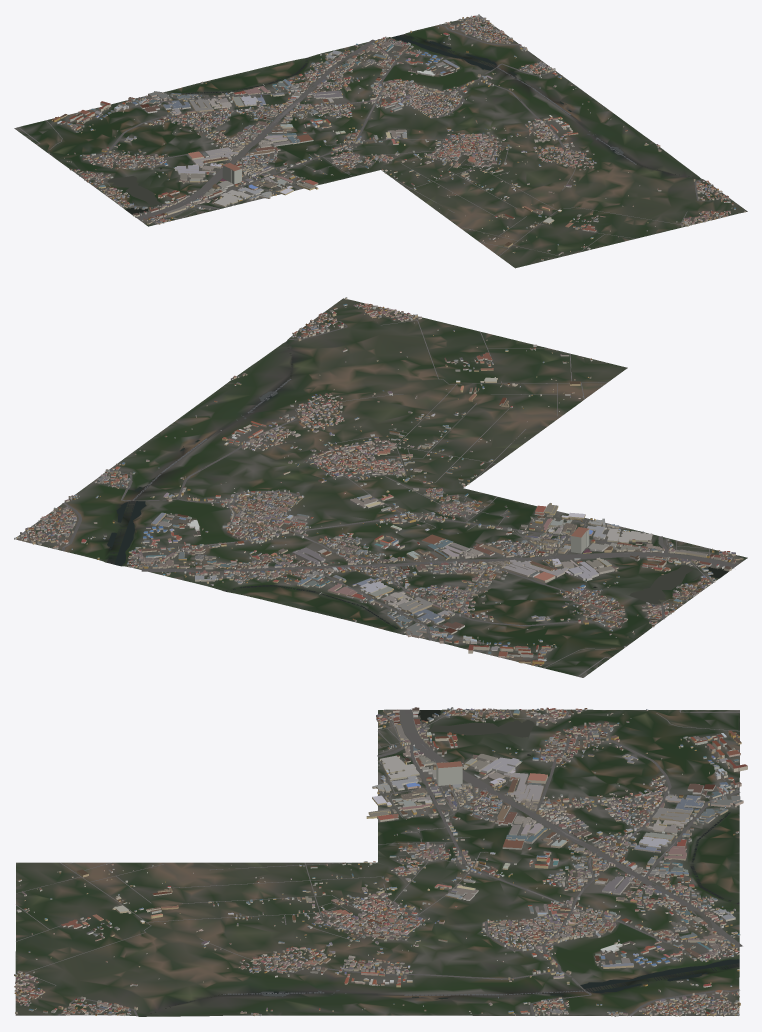
The picture shows the model from 3 angles, top to bottom: view 1: azimuth 30°, elevation 25°; view 2: azimuth 150°, elevation 25°; view 3: azimuth 270°, elevation 25°; orthographic projection. The views are drawn at different scales.
Visible parts, largest first — view 1: ground, buildings, roads, water; view 2: ground, buildings, roads, water; view 3: ground, buildings, roads, water.
Boxes of the visible parts, bbox=[...] form: ground: bbox=[14, 16, 747, 268]; buildings: bbox=[48, 14, 745, 260]; roads: bbox=[18, 18, 731, 256]; water: bbox=[107, 34, 692, 214]; ground: bbox=[14, 298, 747, 677]; buildings: bbox=[14, 297, 743, 665]; roads: bbox=[24, 311, 738, 676]; water: bbox=[107, 345, 727, 628]; ground: bbox=[15, 709, 739, 1016]; buildings: bbox=[14, 707, 747, 1016]; roads: bbox=[16, 709, 742, 1016]; water: bbox=[150, 710, 739, 1013].
Bounding box in the file's own units: 2822 × 85.91 × 2843.
